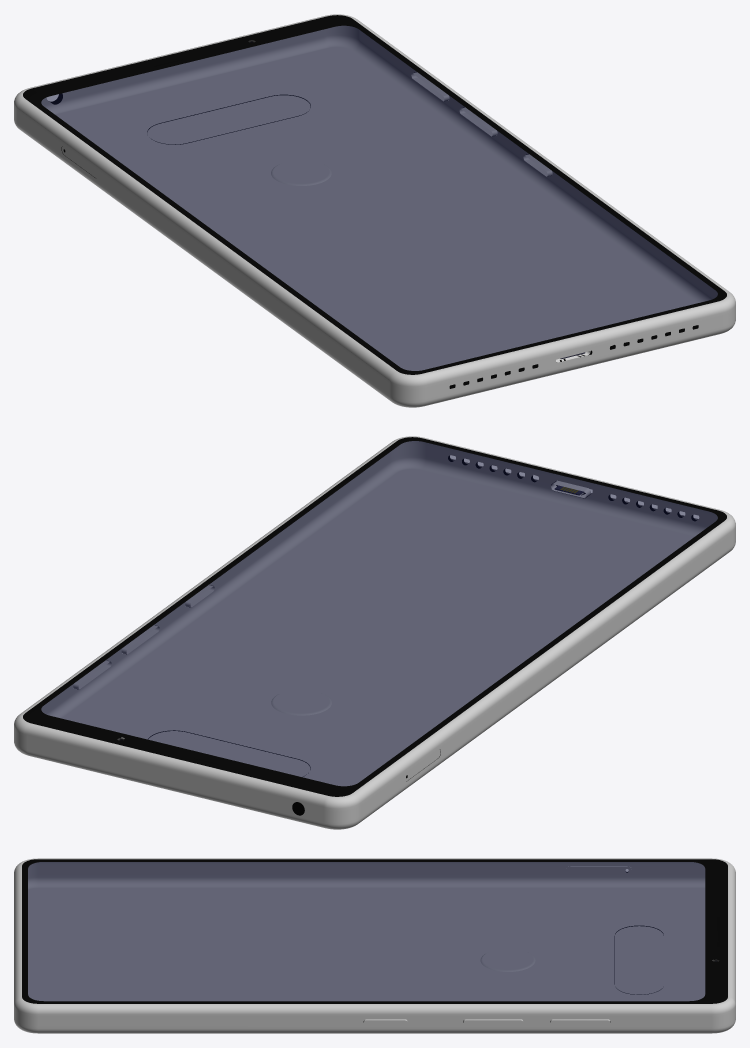
The model's file is Smartphone_M.fbx.
3 renders of one model, top to bottom at view 1: azimuth 30°, elevation 25°; view 2: azimuth 150°, elevation 25°; view 3: azimuth 270°, elevation 25°, orthographic. The views are drawn at different scales.
Visible parts, largest first — view 1: Smartphone_M; view 2: Smartphone_M; view 3: Smartphone_M.
Part boxes in pixels (x1,y1,x2,y2): Smartphone_M: (14,14,735,407); Smartphone_M: (14,436,735,829); Smartphone_M: (14,858,735,1033).
Size of the model in its own units: 0.1604 by 0.3211 by 0.015.
